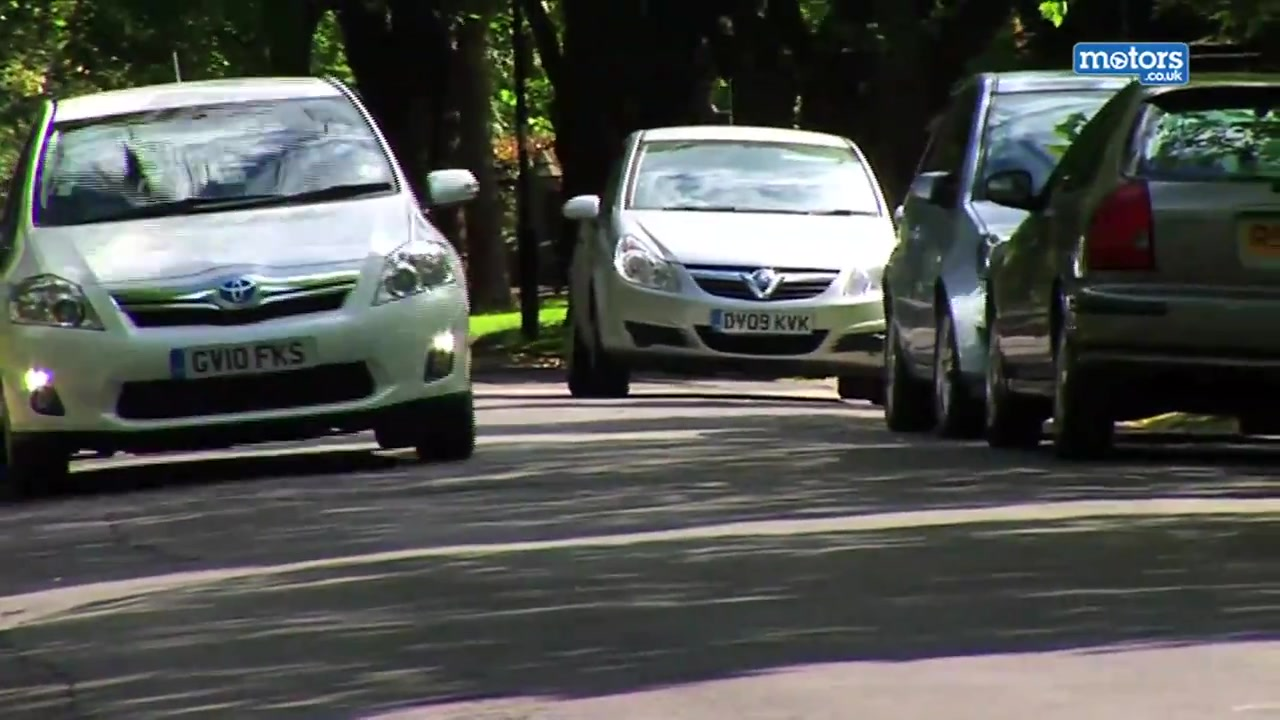car: (4, 75, 487, 487), (976, 71, 1280, 443), (876, 68, 1148, 437), (569, 124, 908, 407)
